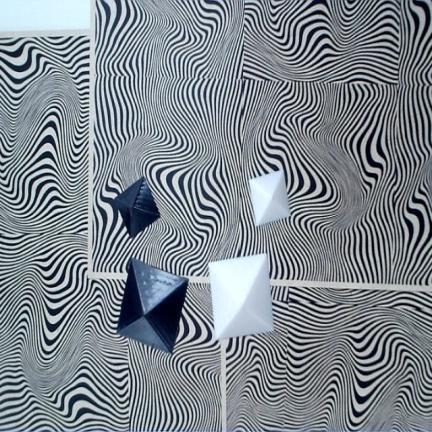Piramide: (117, 258, 188, 354), (209, 254, 274, 339), (114, 177, 160, 237), (249, 169, 291, 226)
